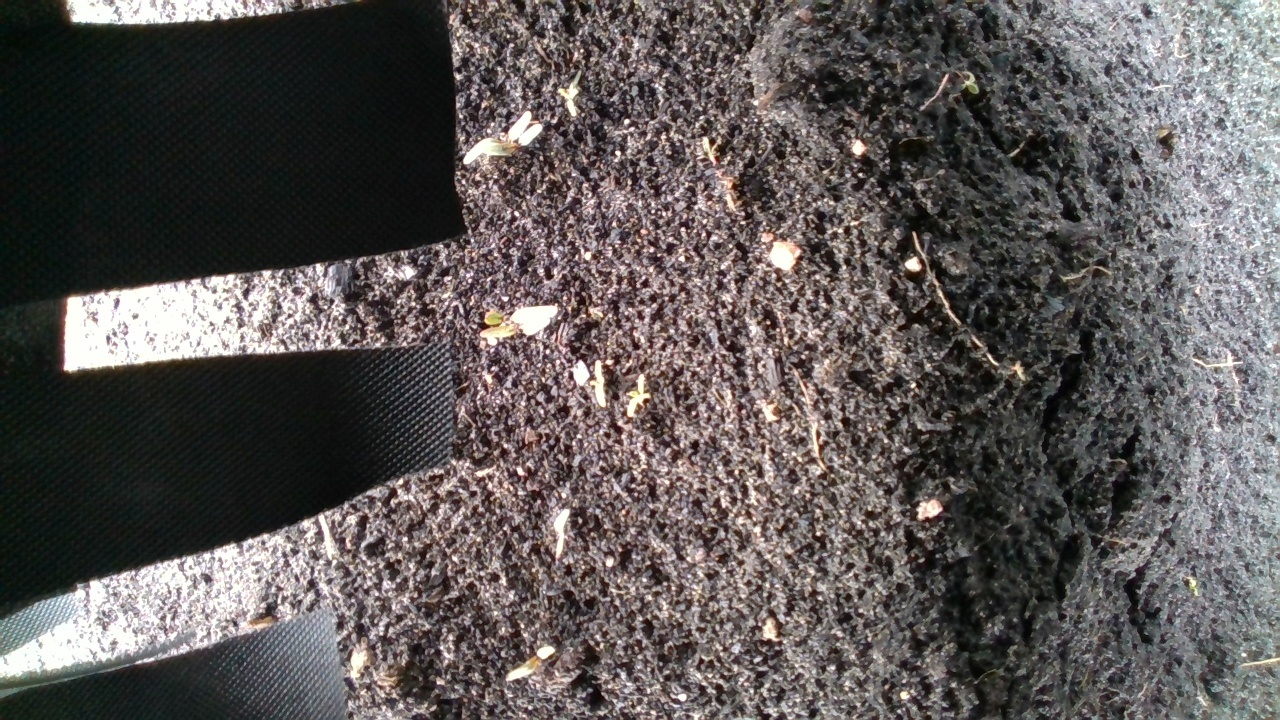weed: (622, 370, 655, 422)
